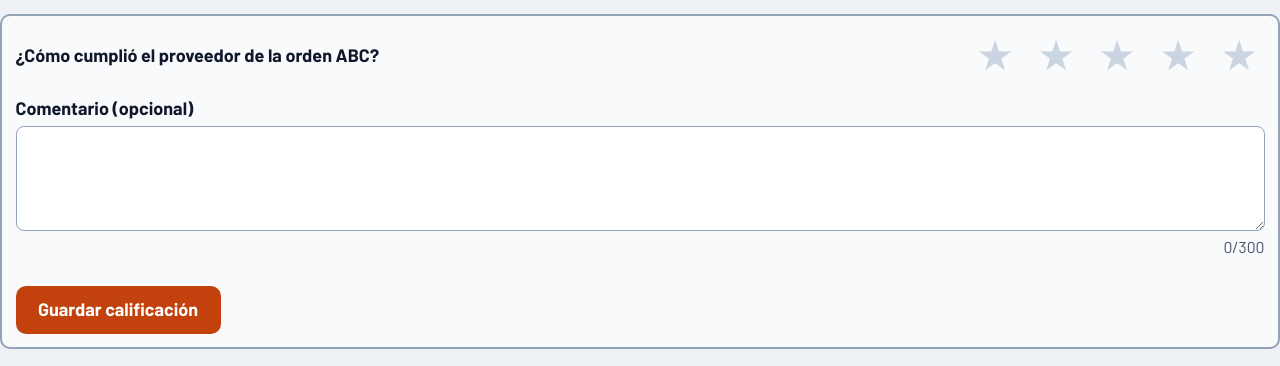
Test: CalificacionProveedor por orden (#222) › muestra un mensaje claro si la API rechaza la calificación con 403 ProblemDetails
Click the button named "5 de 5": point(1238, 55) [1212,29,1264,81]
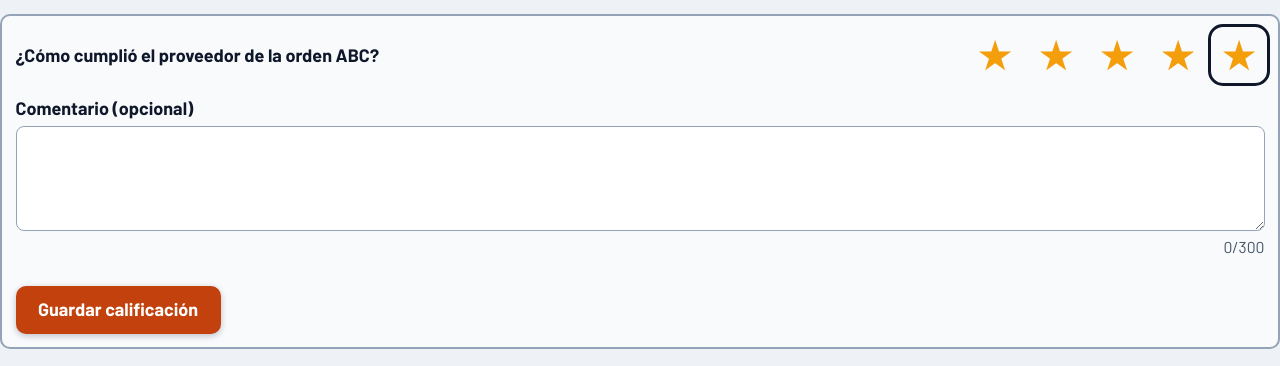
Click the button "Guardar calificación": point(118, 310) [16,286,220,334]
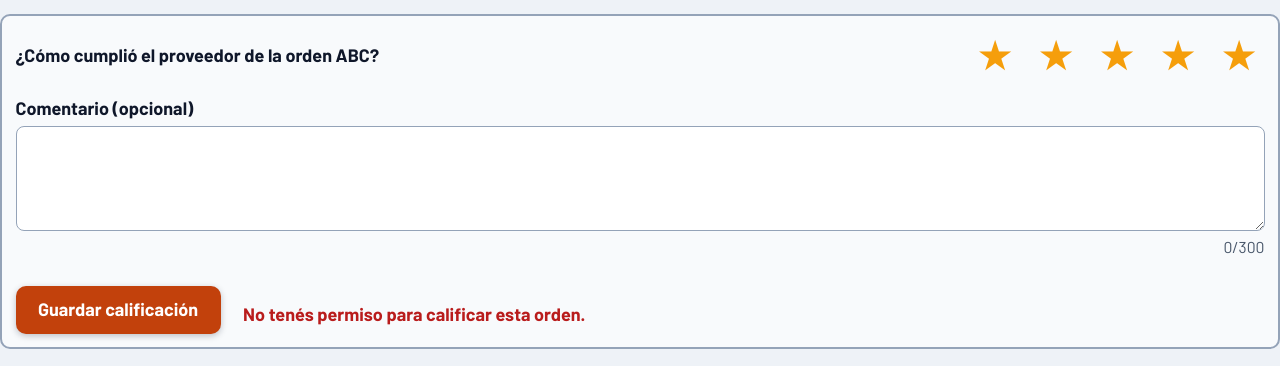
Expected: the message does not show "User role not authorized", [243,301,585,328]
Now the message reads "No tenés permiso para calificar esta orden.", box [243,303,585,325]
